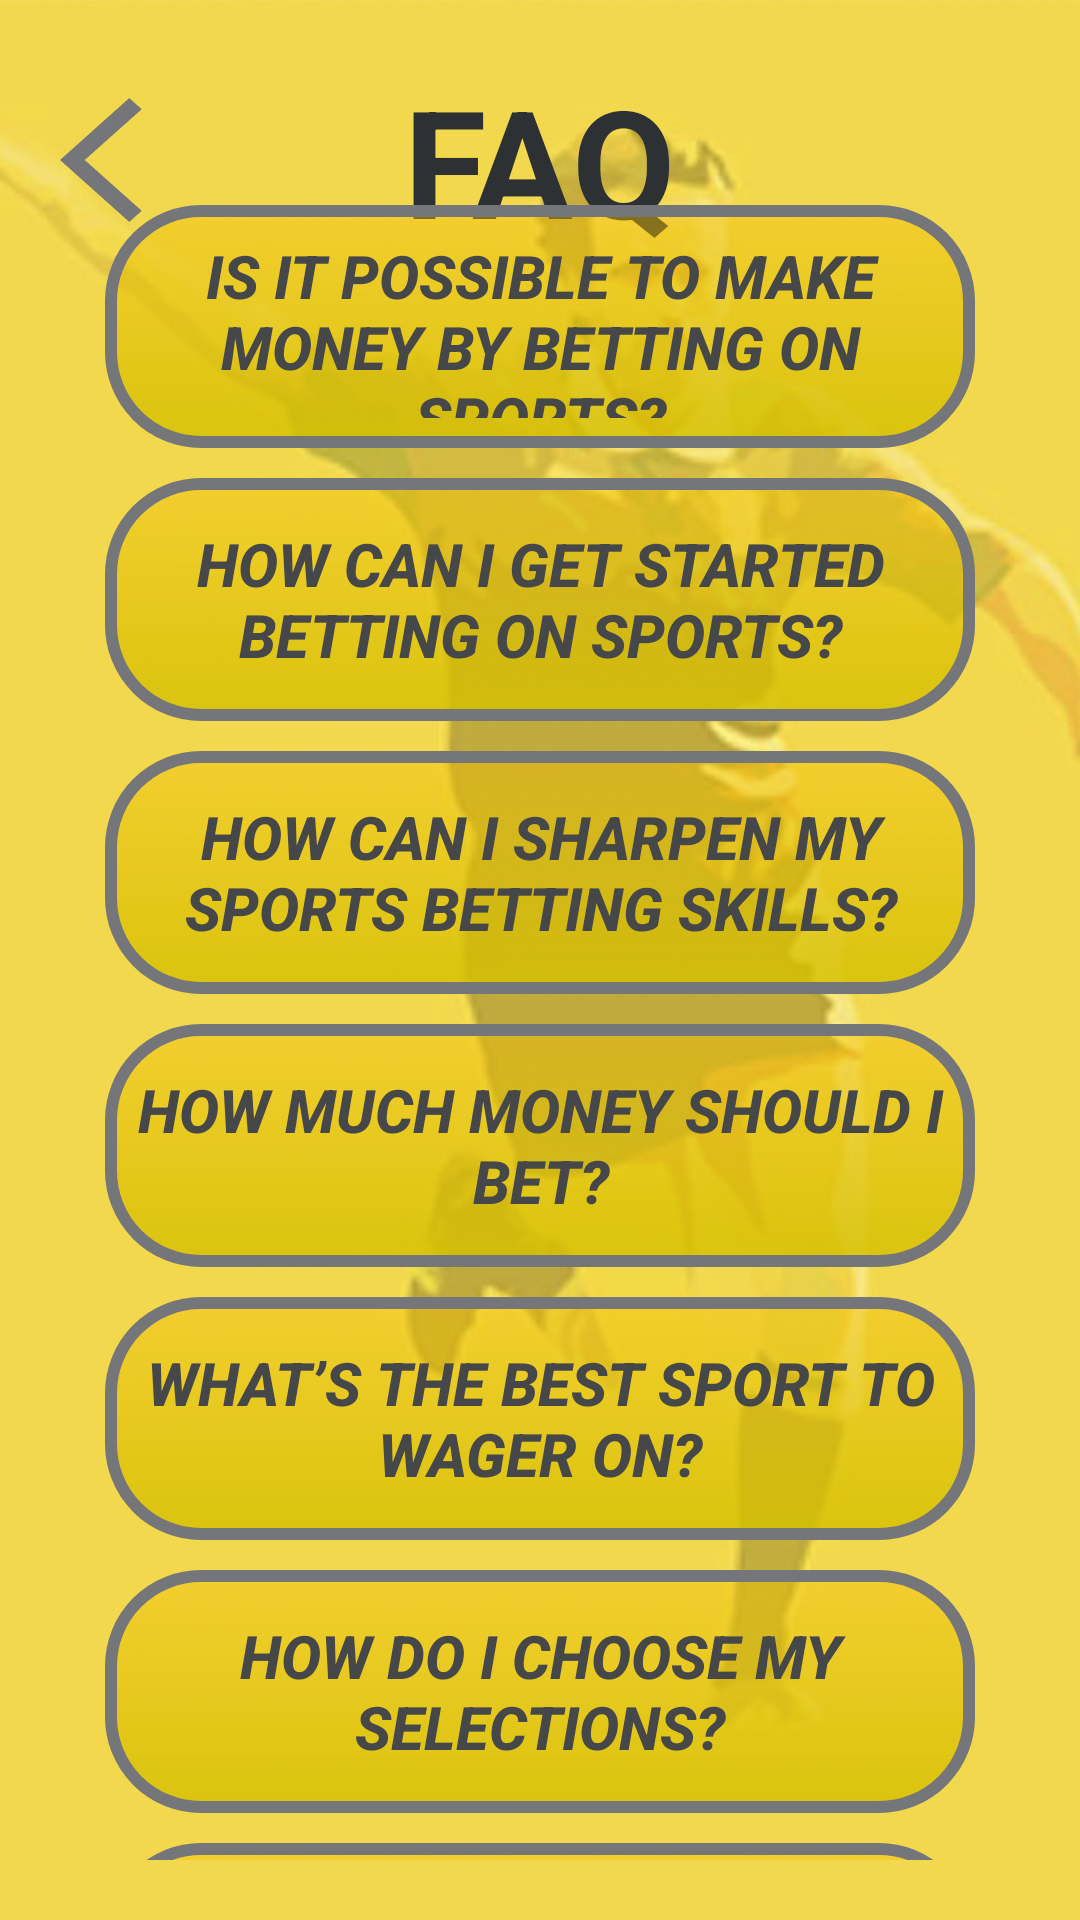

Icons on this 1080px×1920px Android screen, each with the point to tap as (x=x, y=y):
arrow back: (x=101, y=160)
